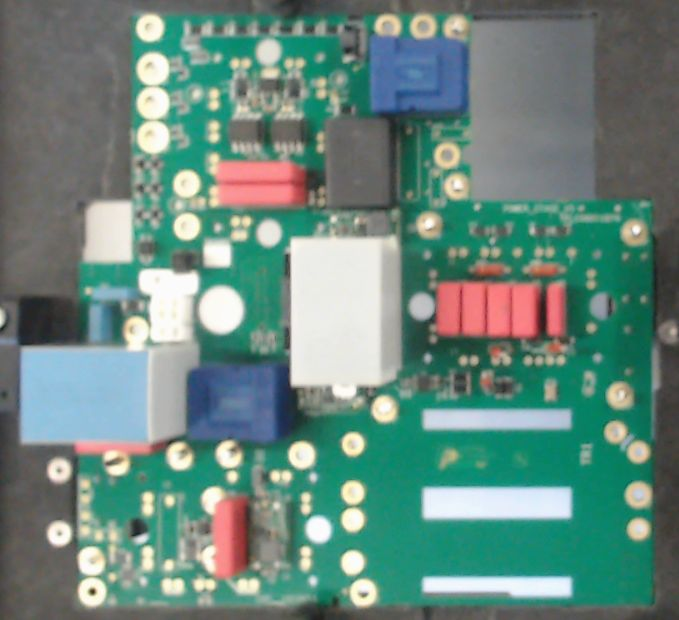comp1: (185, 363, 292, 442), (368, 34, 468, 115)
comp2: (212, 498, 250, 576), (214, 182, 310, 207), (215, 161, 304, 182), (511, 281, 540, 341), (434, 281, 463, 340), (485, 281, 513, 341), (462, 280, 488, 342), (546, 280, 568, 342)
comp3: (322, 114, 394, 207)
comp4: (17, 342, 197, 446), (289, 235, 403, 386)
